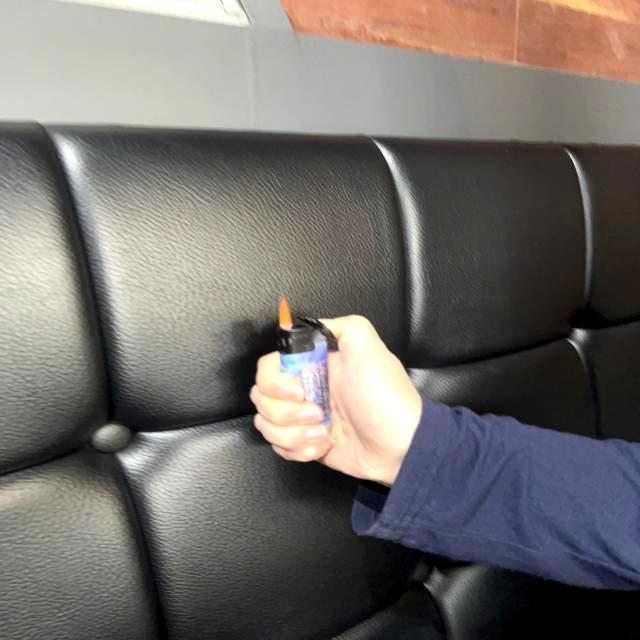fire: (278, 294, 294, 332)
